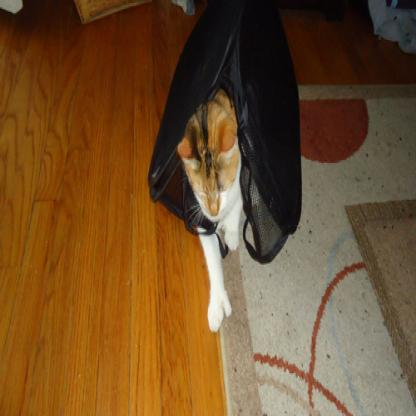Target: (172, 86, 250, 328)
